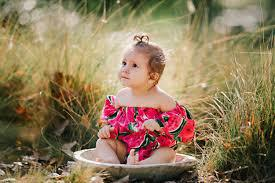child: (90, 32, 199, 172)
